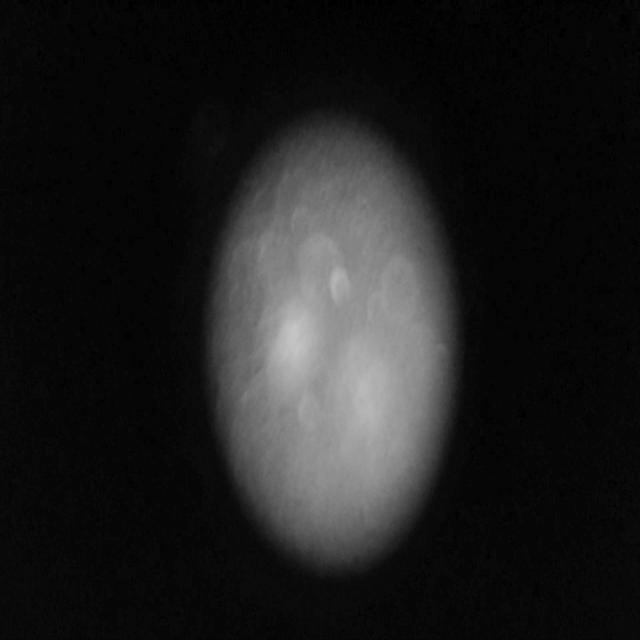alexandrium: (264, 270, 318, 400), (336, 338, 392, 454)
